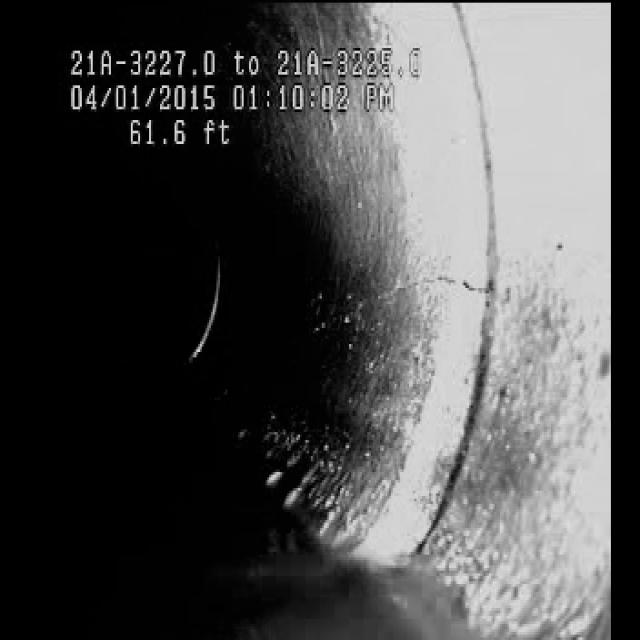Crack: (371, 235, 483, 324)
